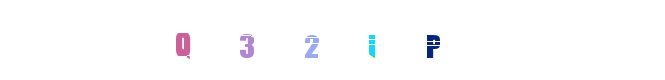2: (293, 0, 373, 80)
3: (239, 0, 319, 80)
I: (332, 0, 412, 80)
P: (391, 0, 471, 80)
Q: (143, 0, 223, 80)
